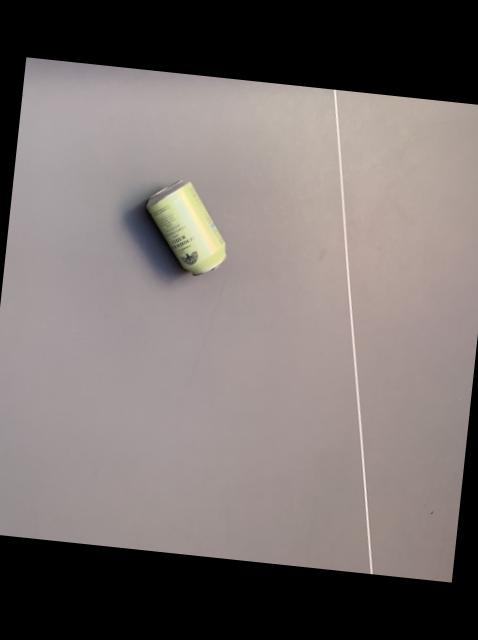metal: (147, 182, 226, 276)
